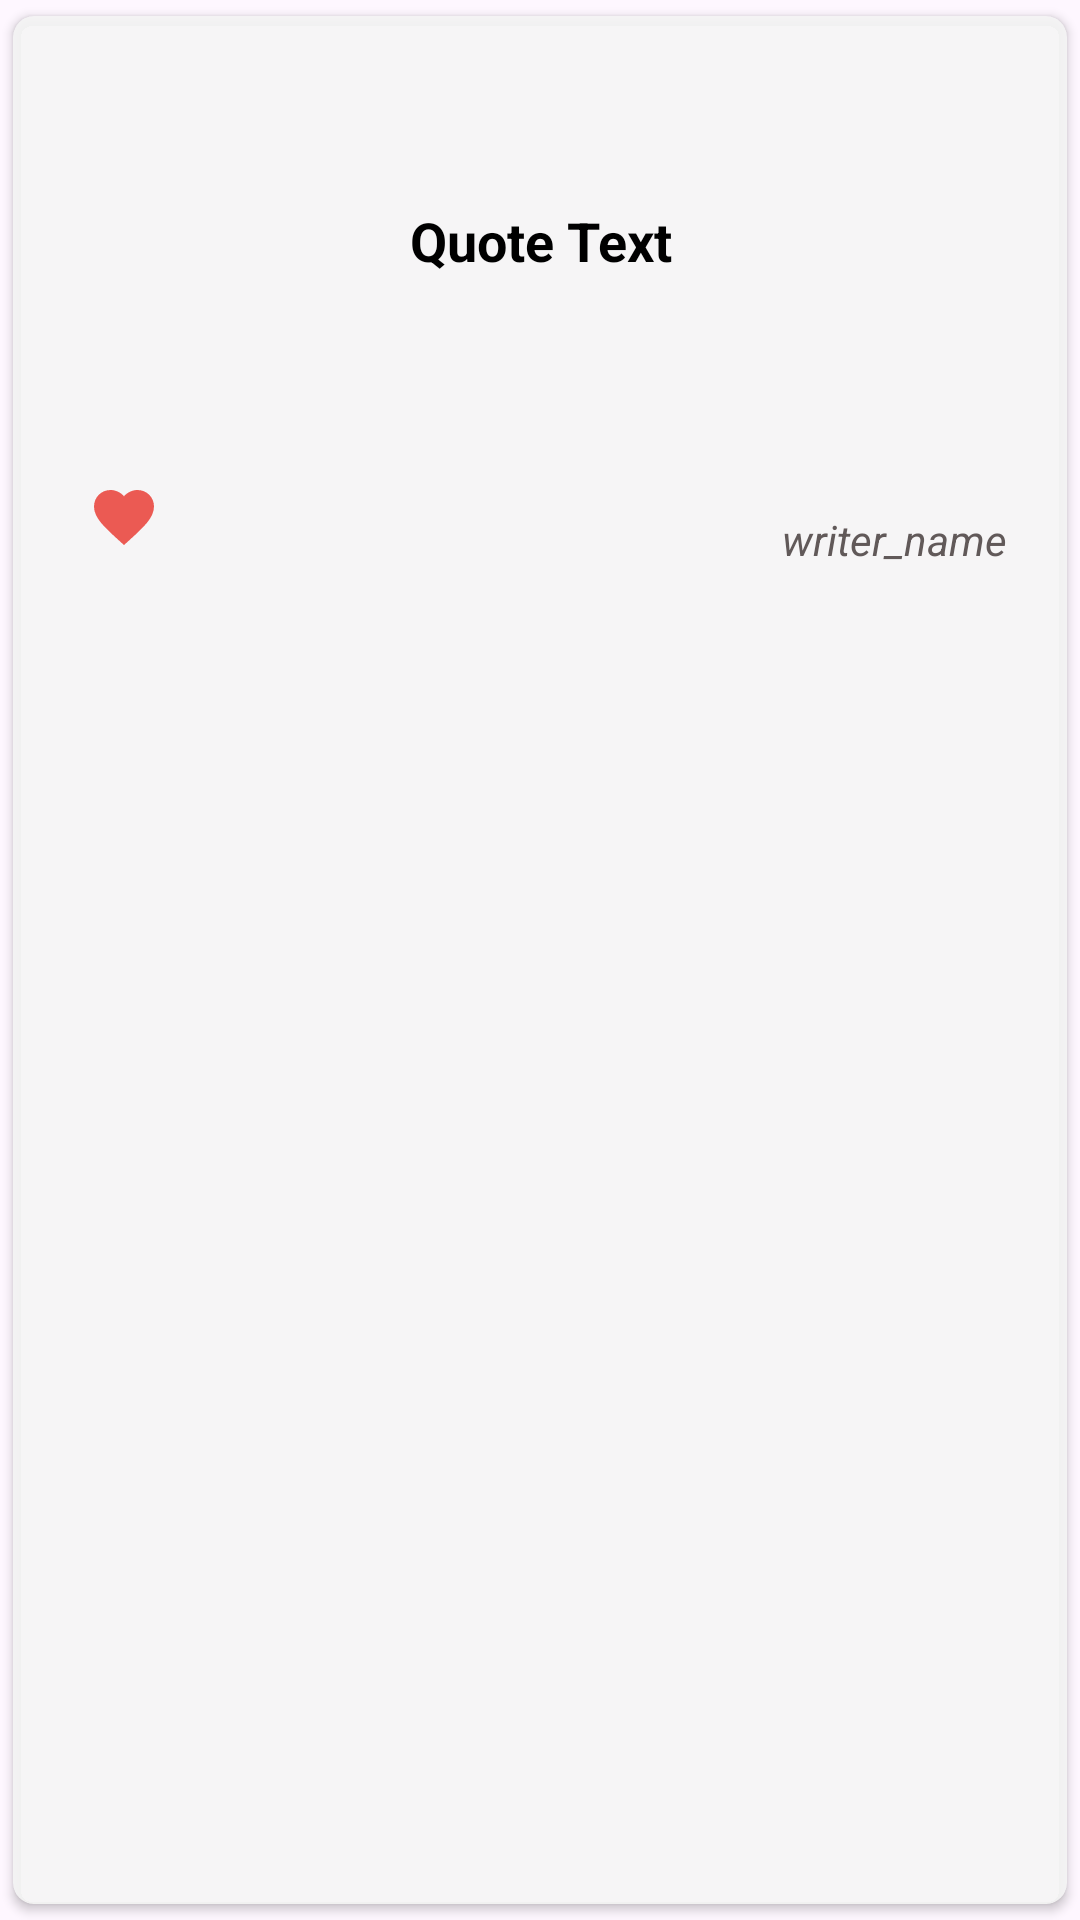

Screen size 1080 × 1920. Icon name, then its box in pixels as (x1, y1, x2, y2):
favorite: (94, 490, 154, 545)
